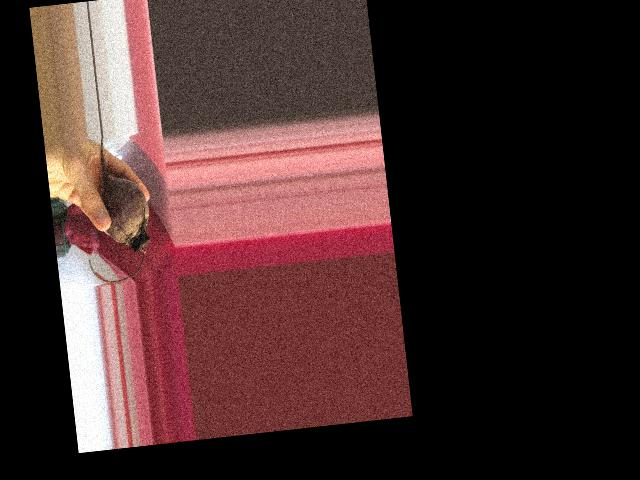beet: (75, 133, 156, 285)
